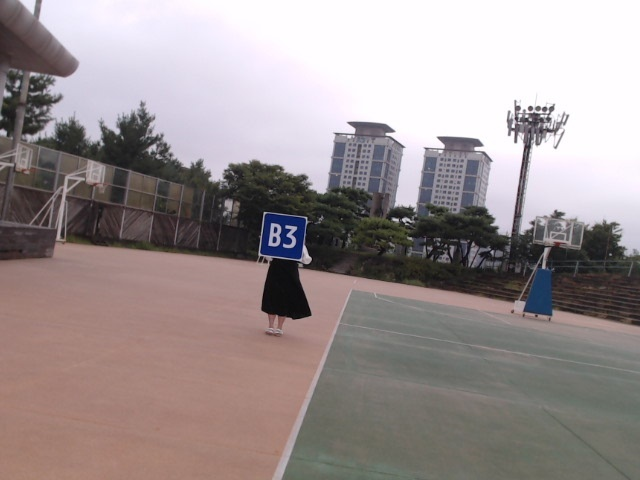delivery_b3: (259, 211, 307, 261)
